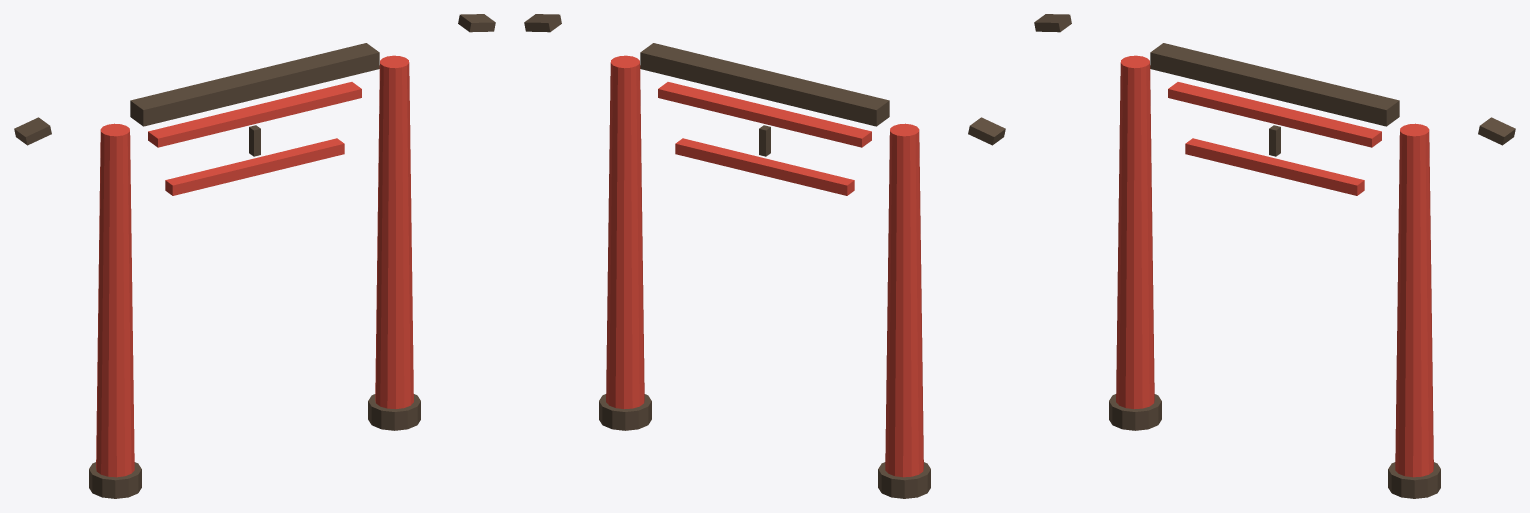
File: torii.glb
The picture shows the model from 3 angles, left to right: view 1: azimuth 30°, elevation 25°; view 2: azimuth 150°, elevation 25°; view 3: azimuth 330°, elevation 25°; orthographic projection.
Parts seen in each view (by area): view 1: Cube.005; view 2: Cube.005; view 3: Cube.005.
Part boxes in pixels (x1,y1,x2,y2): Cube.005: [14, 14, 495, 498]; Cube.005: [524, 14, 1005, 498]; Cube.005: [1034, 14, 1515, 498].
Bounding box in the file's own units: 6.57 × 5.15 × 0.64.
